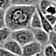cell: (10, 7, 29, 24), (23, 43, 39, 54), (4, 40, 20, 51), (17, 31, 30, 41), (35, 29, 46, 40), (45, 13, 56, 24), (45, 45, 56, 55), (32, 14, 40, 26), (1, 27, 8, 39), (39, 1, 49, 9)
